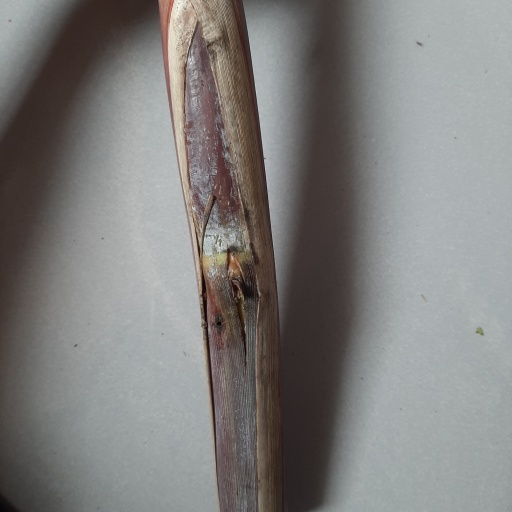Damage_Bud: (224, 248, 246, 320)
